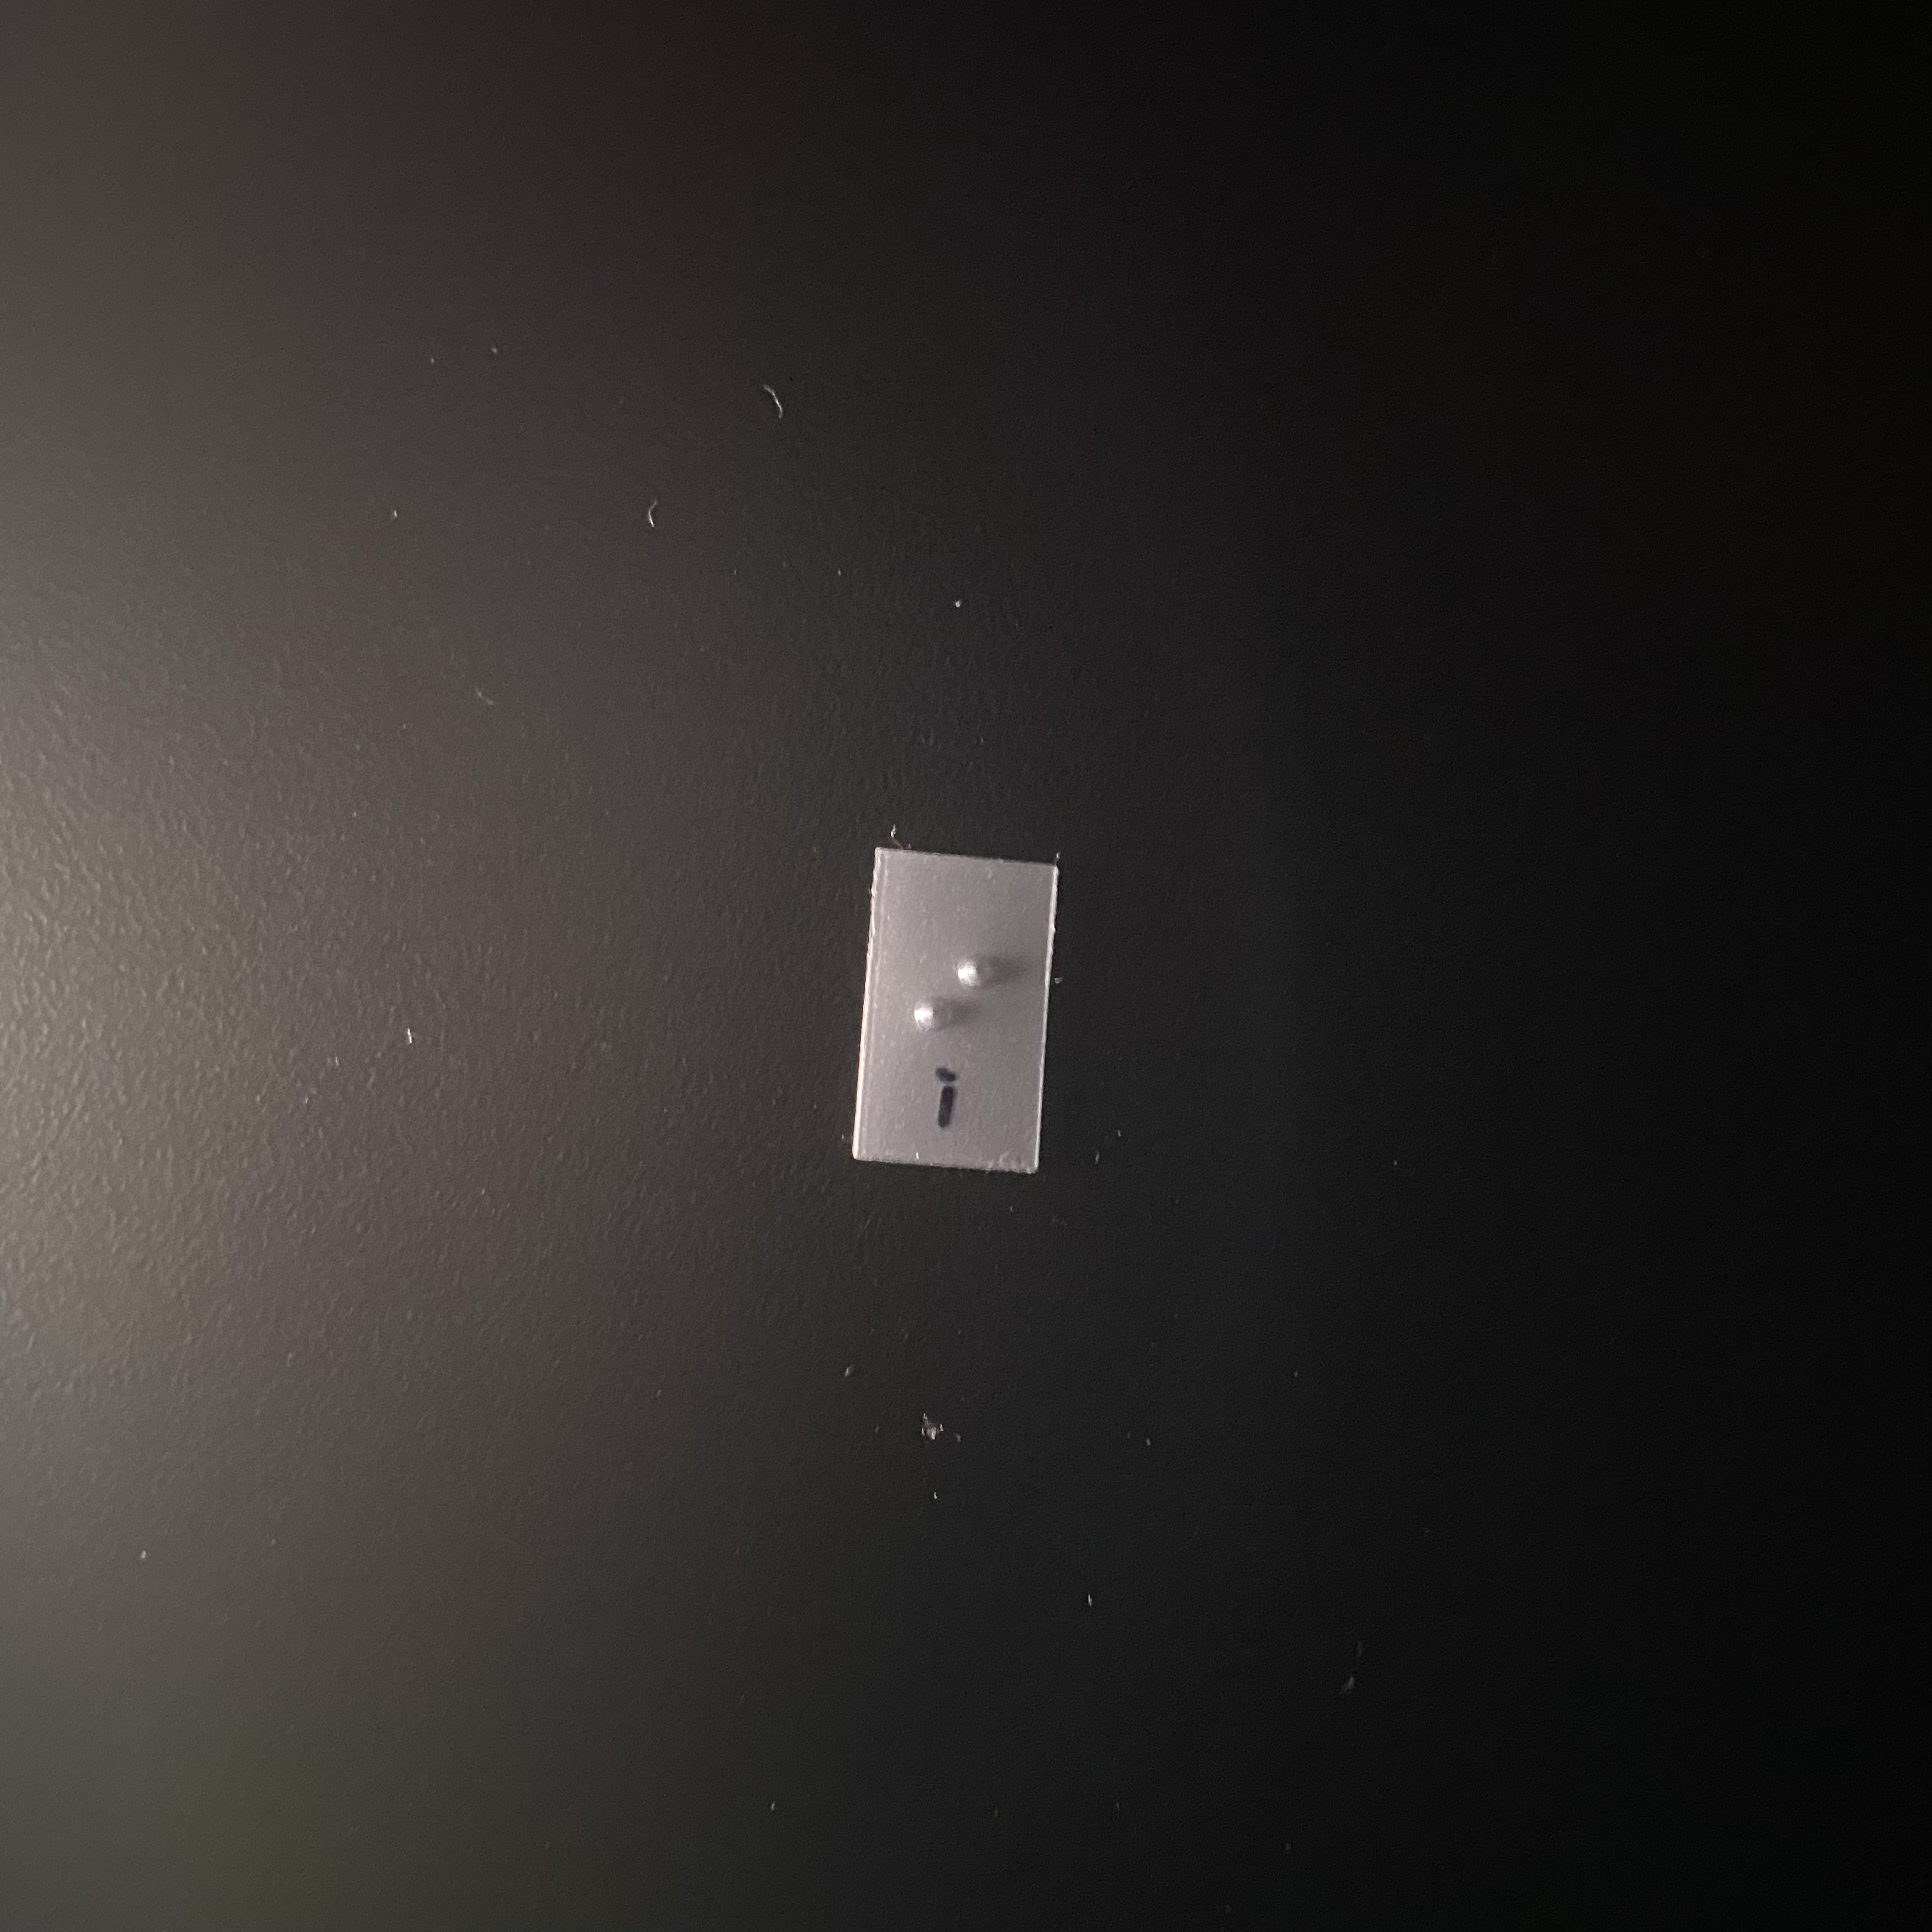i: (906, 943, 1014, 1099)
